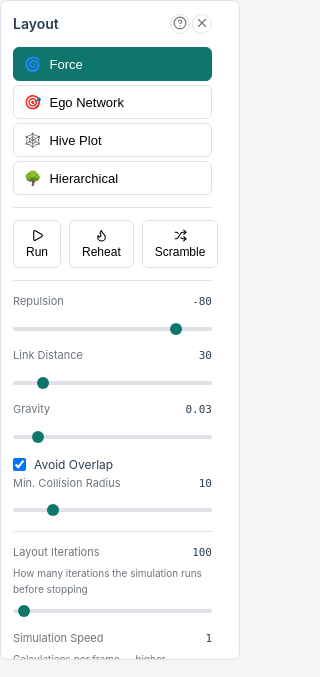
it: LayoutPanel — hive mode block › shows hive controls and hides simulation controls
This screenshot has width=320, height=677.
Click the button with test id "layout-option-hive" at (112, 140), box [13,123,212,157]
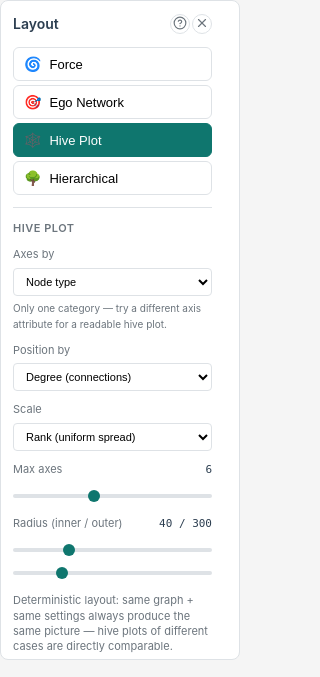
Result: the dropdown with test id "hive-axis-select" is shown at [13,268,212,296]
Result: the dropdown with test id "hive-position-select" is shown at [13,363,212,391]
Result: the dropdown with test id "hive-scale-select" is shown at [13,423,212,451]
